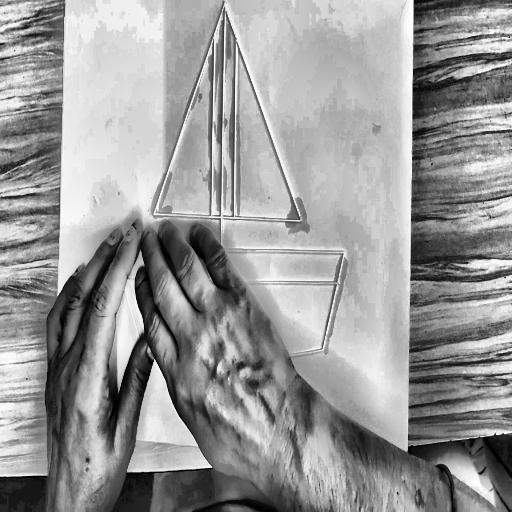boat: (112, 0, 353, 378)
bottom_left: (54, 418, 63, 434)
bottom_right: (403, 451, 413, 468)
